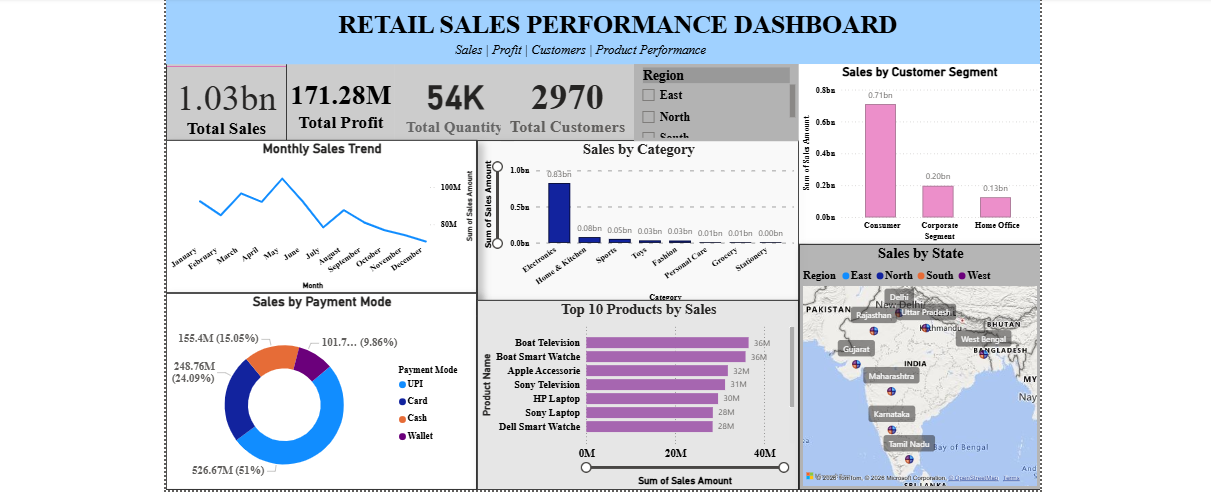

This screenshot's page, from the dashboard's own definition file:
{"tool":"powerbi","page":{"name":"Page 1","canvas":[1280,720],"ordinal":0},"visuals":[{"type":"card","fields":{"Values":["Stores (2).Total Sales"]},"box":[0,93.7,177.1,115.6],"z":0},{"type":"card","fields":{"Values":["Stores (2).Total Profit"]},"box":[177.1,96.6,158,112.7],"z":1000},{"type":"card","fields":{"Values":["Customers (2).Total Quantity"]},"box":[335.1,96.6,174.1,112.7],"z":2000},{"type":"card","fields":{"Values":["Customers (2).Total Customers"]},"box":[490.2,96.6,194.6,112.7],"z":3000},{"type":"lineChart","title":"Monthly Sales Trend","fields":{"Y2":["Sum(Sales (2).Sales Amount)"],"Category":["Sales (2).Order Date.Variation.Date Hierarchy.Month"]},"box":[0,207.8,455.1,223.9],"z":4000},{"type":"clusteredColumnChart","title":"Sales by Category","fields":{"Category":["Products (2).Category"],"Y":["Sum(Sales (2).Sales Amount)"]},"box":[455.1,207.8,471.2,244.4],"z":5000},{"type":"donutChart","title":"Sales by Payment Mode","fields":{"Category":["Sales (2).Payment Mode"],"Y":["Sum(Sales (2).Sales Amount)"]},"box":[0,431.7,455.1,288.3],"z":6000},{"type":"clusteredBarChart","title":"Top 10 Products by Sales","fields":{"Category":["Products (2).Product Name"],"Y":["Sum(Sales (2).Sales Amount)"]},"box":[455.1,442,471.2,278],"z":7000},{"type":"textbox","box":[0,0,1280.5,96.6],"z":8000},{"type":"clusteredColumnChart","title":"Sales by Customer Segment","fields":{"Category":["Customers (2).Segment"],"Y":["Sum(Sales (2).Sales Amount)"]},"box":[926.3,96.6,354.1,263.4],"z":9000},{"type":"map","title":"Sales by State","fields":{"Category":["Customers (2).State"],"Series":["Stores (2).Region"]},"box":[926.3,360,354.1,360],"z":10000},{"type":"slicer","fields":{"Values":["Stores (2).Region"]},"box":[684.9,96.6,241.5,112.7],"z":10001}]}

Visuals, with their boxes in screenshot pixels (x1, y1, x2, y2):
card - Stores (2).Total Sales: bbox=(170, 60, 290, 138)
card - Stores (2).Total Profit: bbox=(290, 62, 396, 138)
card - Customers (2).Total Quantity: bbox=(396, 62, 513, 138)
card - Customers (2).Total Customers: bbox=(501, 62, 632, 138)
"Monthly Sales Trend" lineChart: bbox=(170, 137, 477, 288)
"Sales by Category" clusteredColumnChart: bbox=(477, 137, 794, 302)
"Sales by Payment Mode" donutChart: bbox=(170, 288, 477, 482)
"Top 10 Products by Sales" clusteredBarChart: bbox=(477, 295, 794, 482)
textbox: bbox=(170, 0, 1033, 62)
"Sales by Customer Segment" clusteredColumnChart: bbox=(794, 62, 1033, 239)
"Sales by State" map: bbox=(794, 239, 1033, 482)
slicer - Stores (2).Region: bbox=(632, 62, 795, 138)
